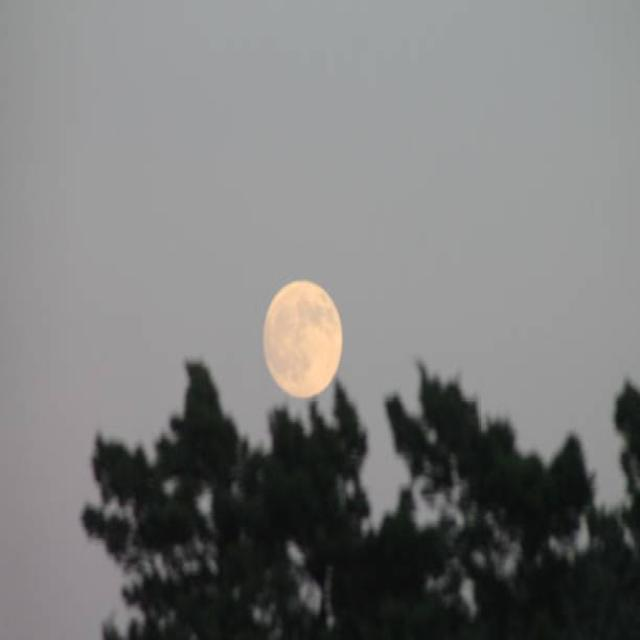moon: (258, 276, 344, 400)
